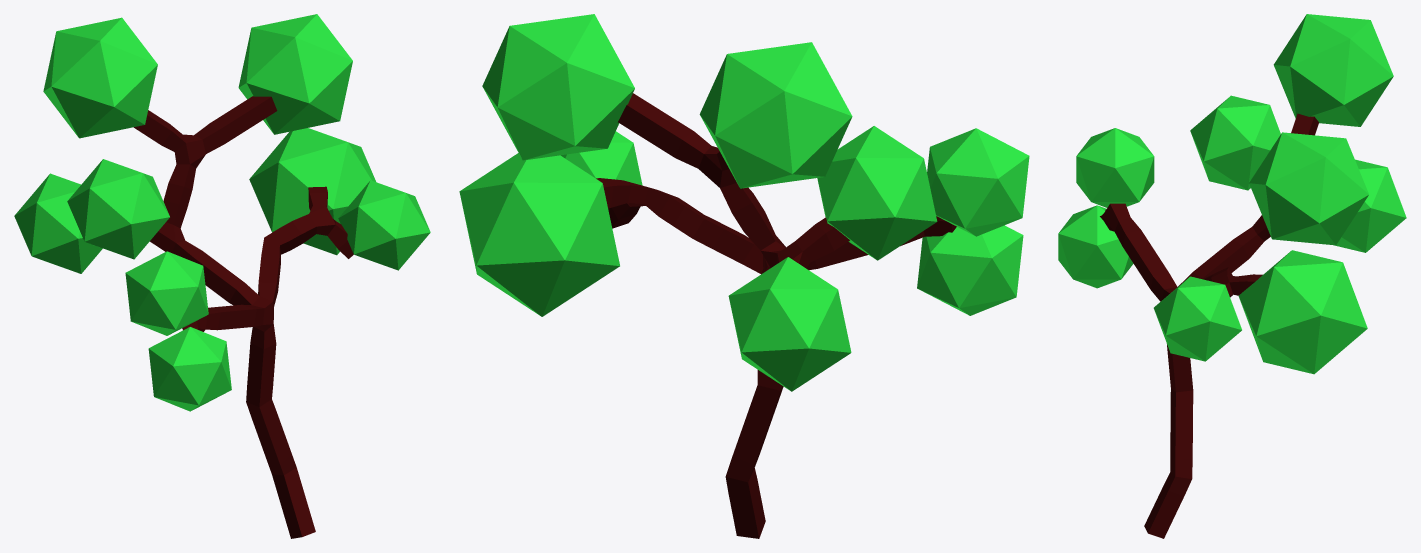
Rendered from drvo_najjednostavnije.fbx.
The picture shows the model from 3 angles, left to right: view 1: azimuth 30°, elevation 25°; view 2: azimuth 150°, elevation 25°; view 3: azimuth 270°, elevation 25°; orthographic projection. The views are drawn at different scales.
Parts seen in each view (by area): view 1: Cube; view 2: Cube; view 3: Cube.
Part boxes in pixels (x1,y1,x2,y2): Cube: (14,14,430,538); Cube: (459,14,1029,538); Cube: (1058,14,1406,538).
Size of the model in its own units: 1051 by 1412 by 965.
